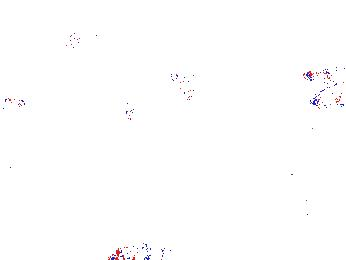X-ray fish: (108, 242, 158, 260)
glassfish: (315, 188, 346, 208)
red belly glassfish: (303, 65, 346, 81), (4, 94, 29, 108), (65, 34, 82, 50)
redtail glassfish: (309, 82, 346, 108), (170, 69, 197, 102), (290, 168, 310, 198)
